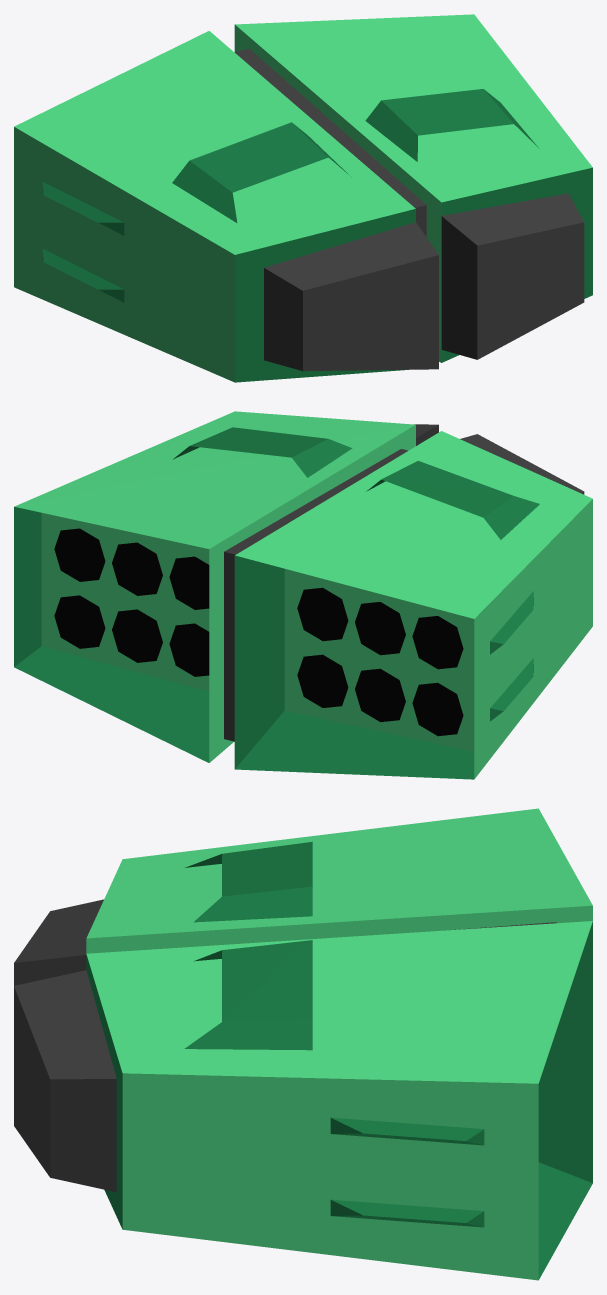
The model's file is Cannon.FBX.
3 renders of one model, top to bottom at view 1: azimuth 30°, elevation 25°; view 2: azimuth 150°, elevation 25°; view 3: azimuth 270°, elevation 25°, orthographic. The views are drawn at different scales.
Parts seen in each view (by area): view 1: VIFS005, VIFS007, VIFS006; view 2: VIFS005, VIFS006, VIFS008, VIFS007; view 3: VIFS005, VIFS006, VIFS007.
Boxes of the visible parts, <box> form: VIFS005: <box>14,14,592,382</box>; VIFS007: <box>235,48,584,371</box>; VIFS006: <box>42,89,592,382</box>; VIFS005: <box>14,411,592,778</box>; VIFS006: <box>14,427,539,779</box>; VIFS008: <box>54,528,463,736</box>; VIFS007: <box>224,424,584,741</box>; VIFS005: <box>86,808,592,1280</box>; VIFS006: <box>86,841,592,1279</box>; VIFS007: <box>14,899,556,1192</box>.
Size of the model in its own units: 0.936 by 0.416 by 0.832.
